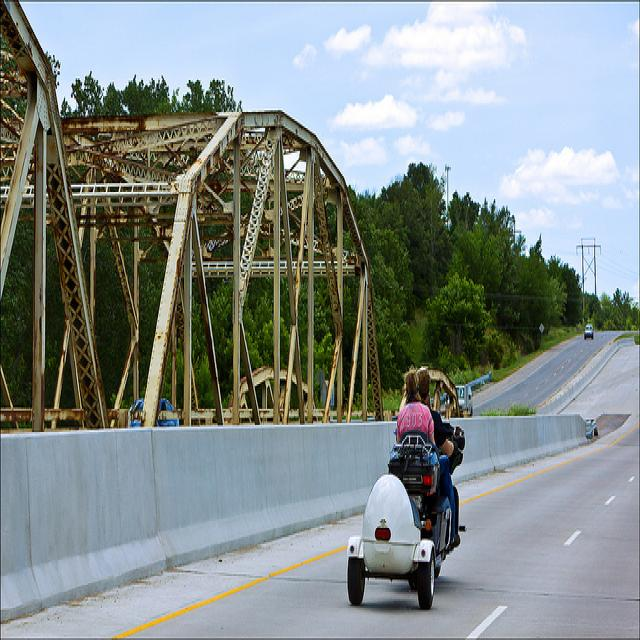motor: (347, 429, 452, 611)
